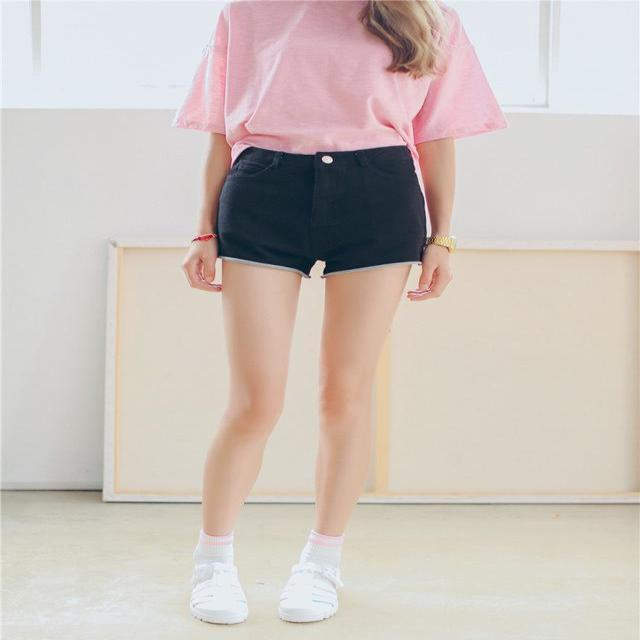long sleeve top: (172, 2, 504, 162)
shorts: (209, 146, 422, 274)
